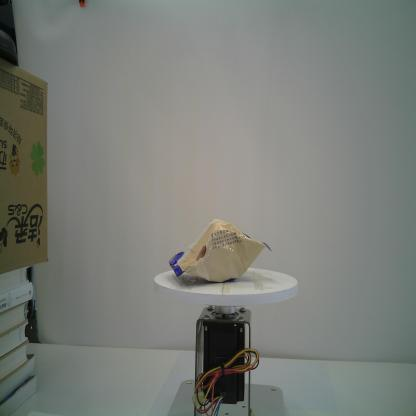Dessert: (167, 218, 272, 284)
